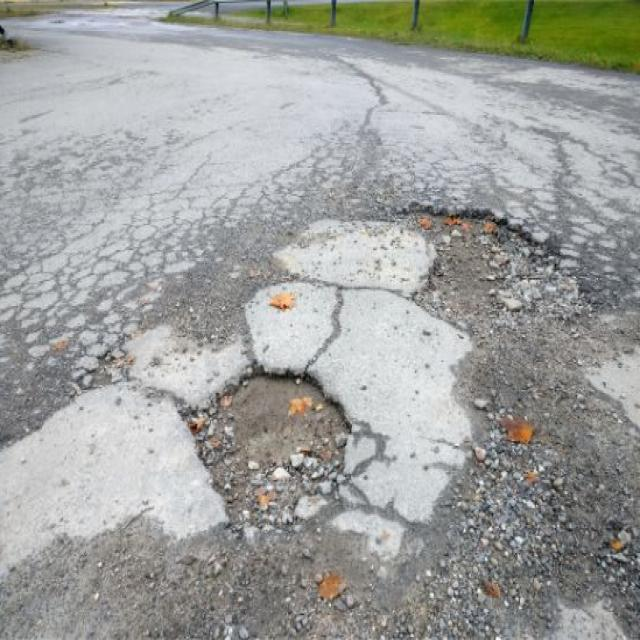pothole: (183, 361, 358, 524), (402, 194, 552, 328)
